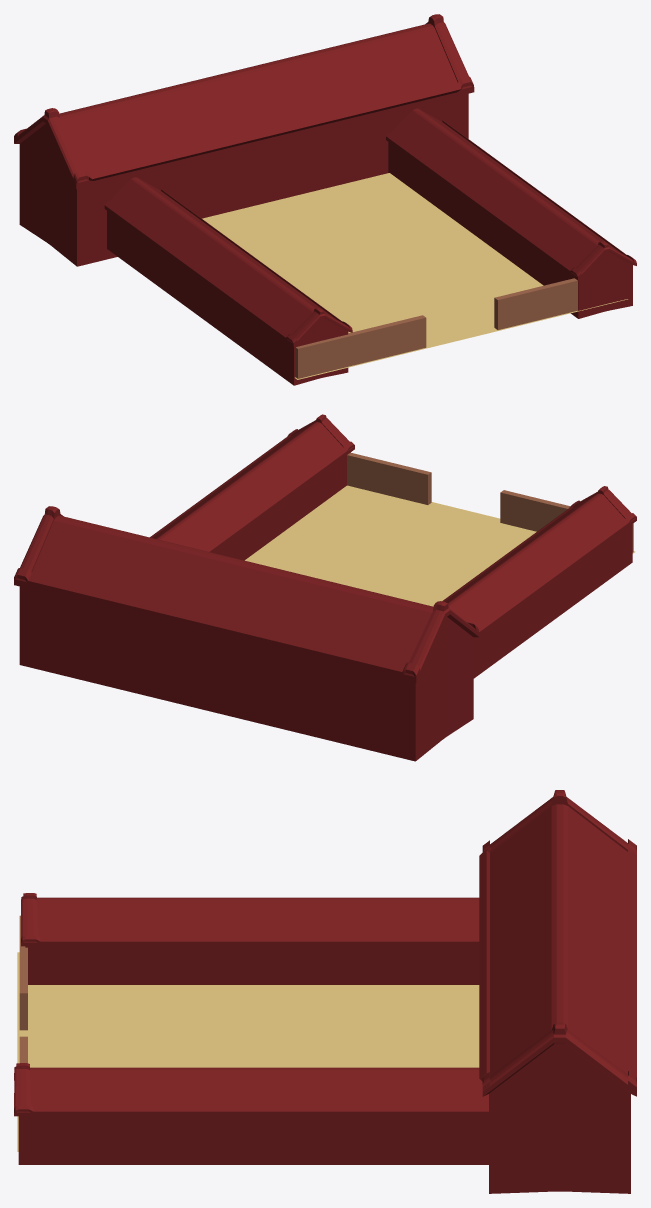
The model's file is SusakuStage5_Final.fbx.
3 renders of one model, top to bottom at view 1: azimuth 30°, elevation 25°; view 2: azimuth 150°, elevation 25°; view 3: azimuth 270°, elevation 25°, orthographic. The views are drawn at different scales.
Parts seen in each view (by area): view 1: Cube.014, Cube.013, Plane.002, Cube.012; view 2: Cube.014, Cube.013, Plane.002, Cube.012; view 3: Cube.013, Cube.014, Plane.002, Cube.012.
Boxes of the visible parts, <box> form: Cube.014: <box>14,14,474,266</box>; Cube.013: <box>104,108,636,385</box>; Plane.002: <box>202,173,627,379</box>; Cube.012: <box>295,278,577,378</box>; Cube.014: <box>14,506,479,761</box>; Cube.013: <box>150,414,636,678</box>; Plane.002: <box>245,485,635,606</box>; Cube.012: <box>347,452,633,552</box>; Cube.013: <box>14,893,488,1164</box>; Cube.014: <box>479,790,636,1193</box>; Plane.002: <box>17,952,479,1151</box>; Cube.012: <box>19,915,27,1063</box>.
Size of the model in its own units: 101 by 32.66 by 110.
